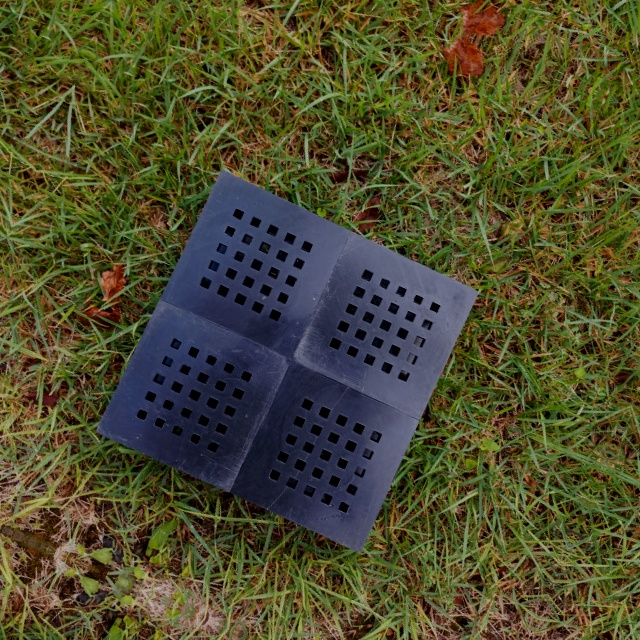pallet: (87, 155, 498, 561)
